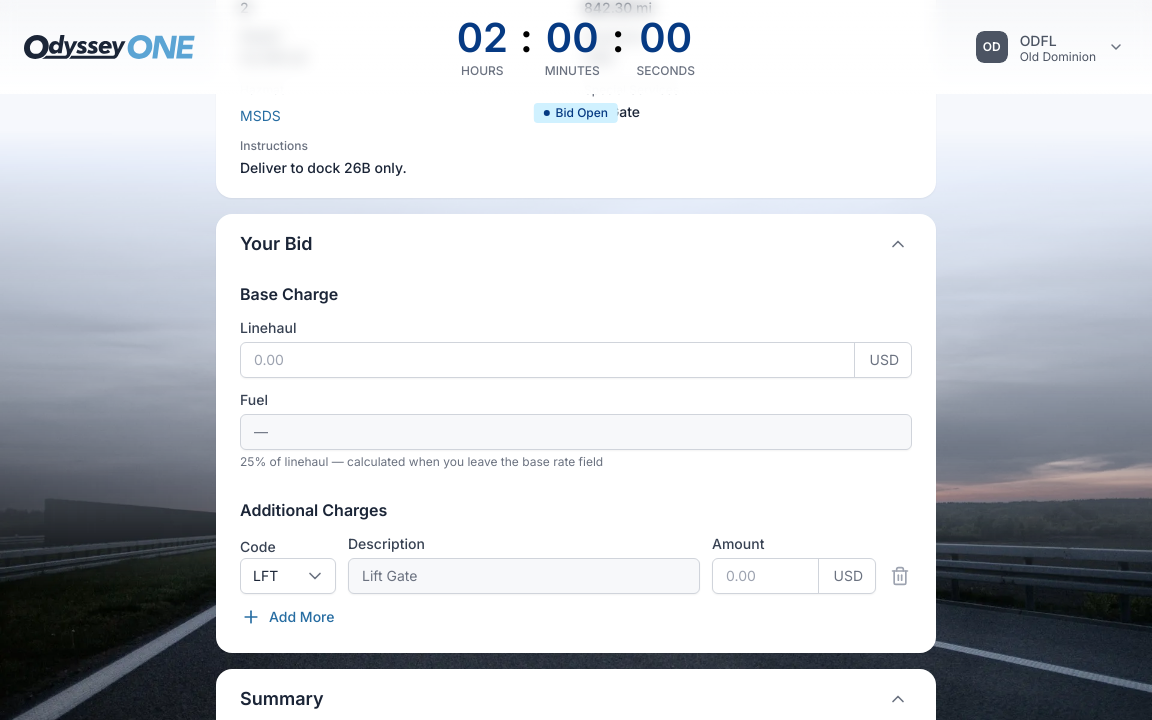
Test case: CarrierBid — open quote › clicking Submit Bid opens a confirmation dialog without submitting yet
(page scrolled)
// Submit gates on a valid base rate (SPB-65) — enter one first.
In the field labelled "Linehaul": {"x": 548, "y": 360} left=254, top=350, right=842, bottom=370, type "1000"
(page scrolled)
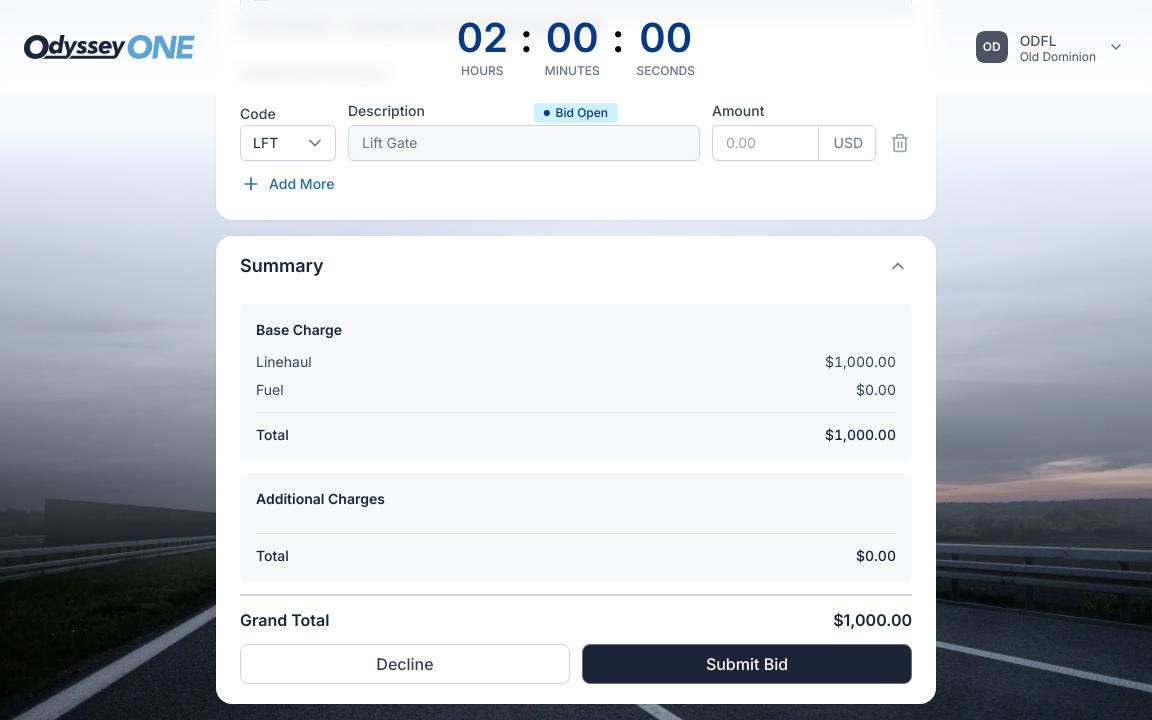
Click the button "Submit Bid": {"x": 747, "y": 664} left=582, top=644, right=912, bottom=684
(page scrolled)
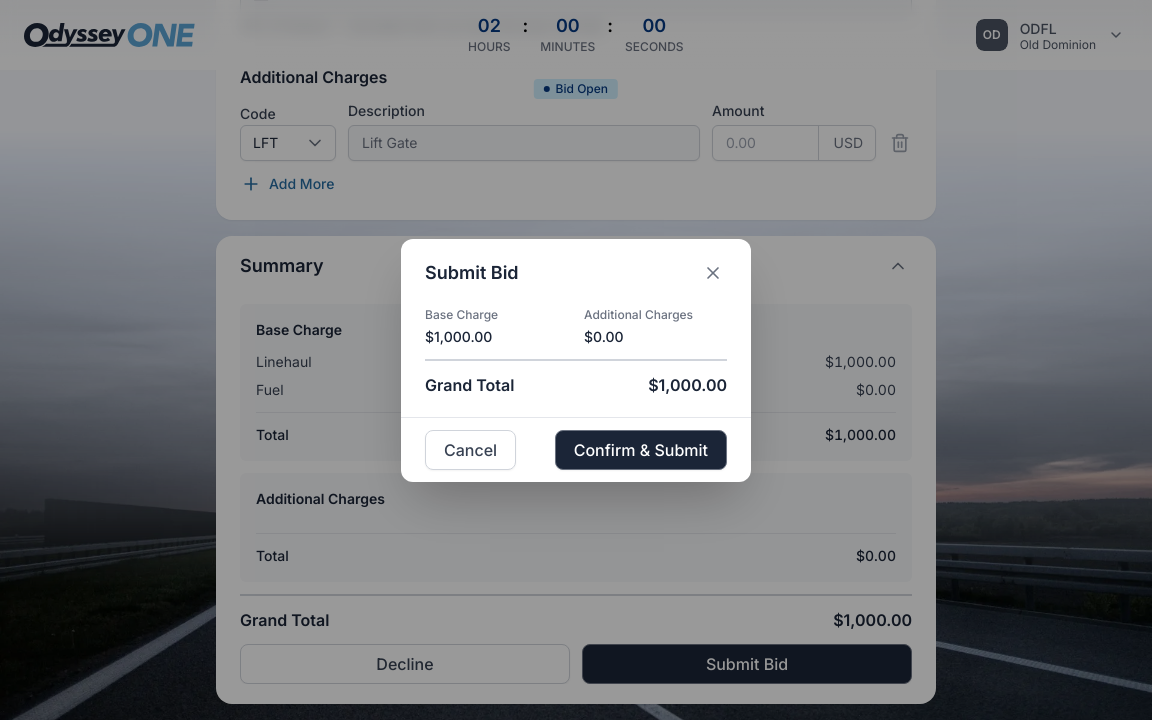
Expected: the dialog "Submit Bid" is shown, left=401, top=238, right=751, bottom=482
